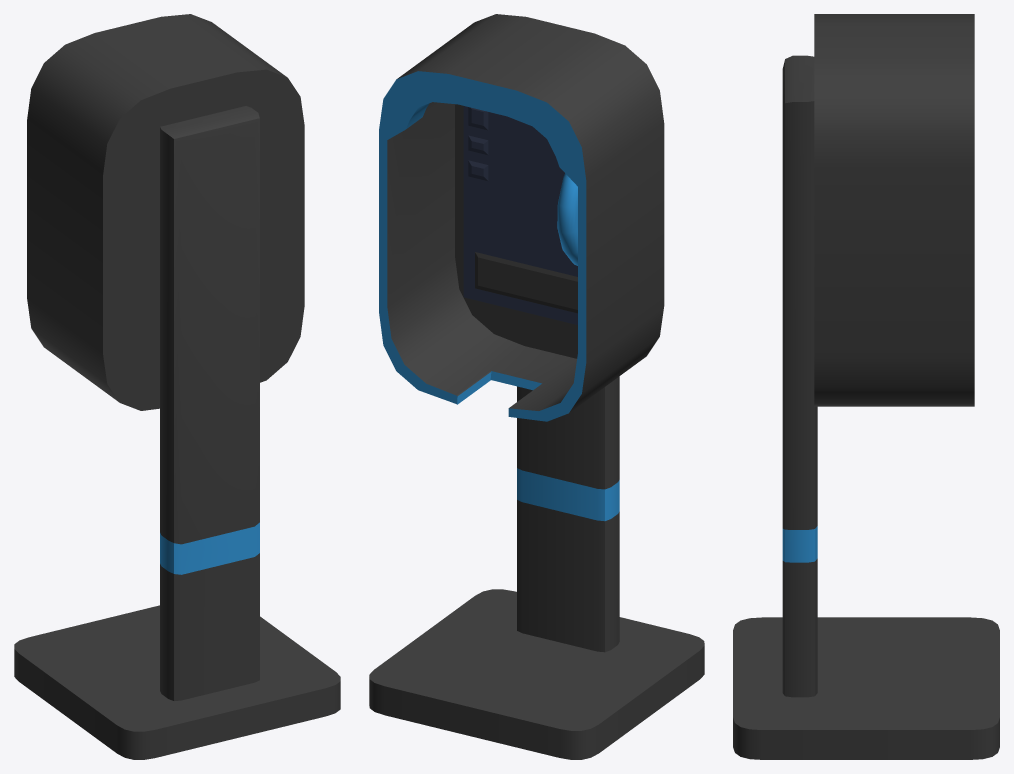
Rendered from SM_phonebox.fbx.
3 views of the same model, side by side, from view 1: azimuth 30°, elevation 25°; view 2: azimuth 150°, elevation 25°; view 3: azimuth 270°, elevation 25° (orthographic). The views are drawn at different scales.
Parts seen in each view (by area): view 1: PhoneBox; view 2: PhoneBox; view 3: PhoneBox.
Boxes of the visible parts, x1,y1,x2,y2 form: PhoneBox: (14,14,340,759); PhoneBox: (369,14,704,759); PhoneBox: (733,14,999,759).
Size of the model in its own units: 20 by 54.84 by 20.
